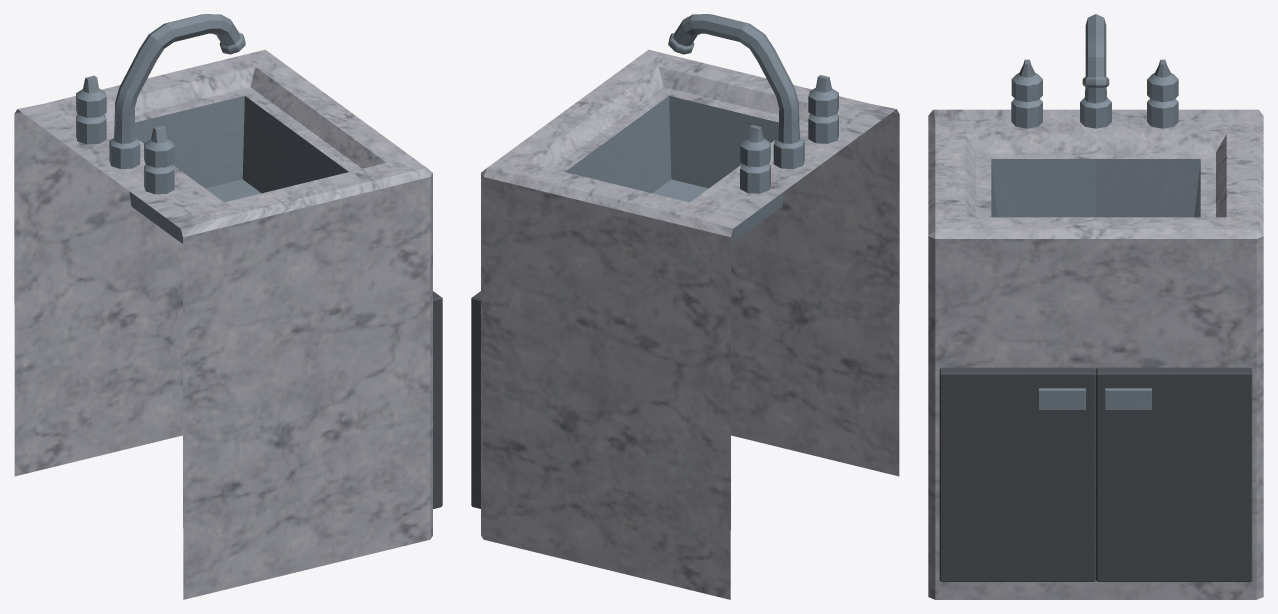
Rendered from sink1.fbx.
3 views of the same model, side by side, from view 1: azimuth 30°, elevation 25°; view 2: azimuth 150°, elevation 25°; view 3: azimuth 270°, elevation 25° (orthographic).
Visible parts, largest first — view 1: sink1; view 2: sink1; view 3: sink1.
Part boxes in pixels (x1,y1,x2,y2): sink1: (14, 14, 442, 599); sink1: (471, 14, 899, 599); sink1: (928, 14, 1263, 599).
Size of the model in its own units: 95.5 by 163 by 99.9.
1 material, 1 textured.
